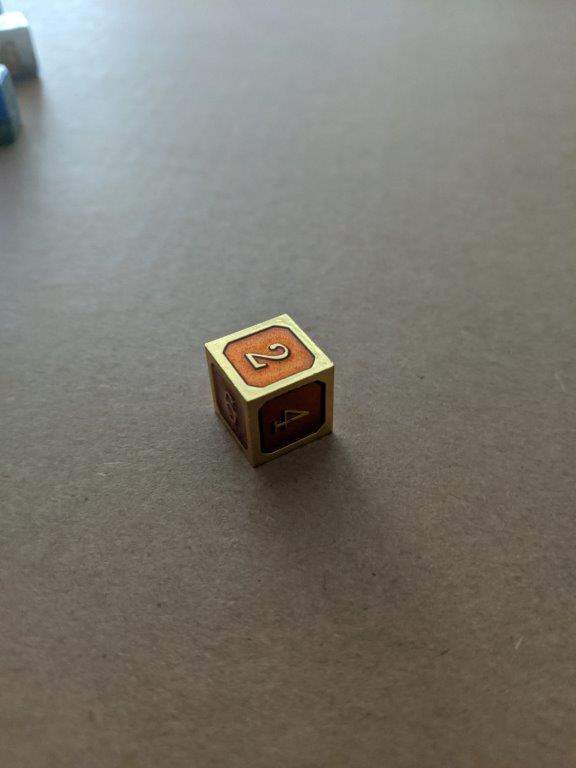d6-2: (202, 312, 337, 470)
